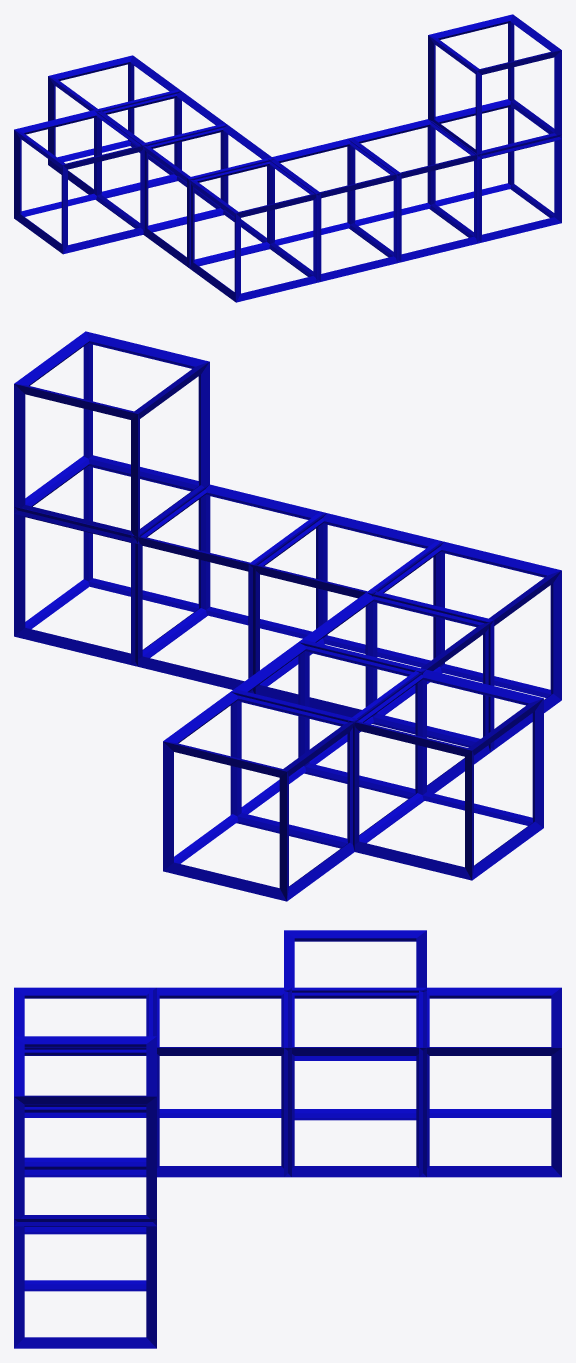
3 views of the same model, one above another, from view 1: azimuth 30°, elevation 25°; view 2: azimuth 150°, elevation 25°; view 3: azimuth 270°, elevation 25° (orthographic). The views are drawn at different scales.
Visible parts, largest first — view 1: Cube.008, Cube.002, Cube.004, Cube.005, Cube.006, Cube.001, Cube.007, Cube.003_Cube.009, Cube; view 2: Cube.008, Cube.003_Cube.009, Cube.004, Cube.006, Cube.002, Cube.005, Cube.007, Cube.001, Cube; view 3: Cube.008, Cube.003_Cube.009, Cube, Cube.001, Cube.007, Cube.004, Cube.002, Cube.005, Cube.006.
Part boxes in pixels (left/top/right/bottom): Cube.008: left=428, top=14, right=561, bottom=159; Cube.002: left=187, top=157, right=320, bottom=302; Cube.004: left=14, top=109, right=147, bottom=254; Cube.005: left=268, top=137, right=401, bottom=282; Cube.006: left=348, top=119, right=481, bottom=263; Cube.001: left=140, top=123, right=274, bottom=268; Cube.007: left=428, top=99, right=561, bottom=243; Cube.003_Cube.009: left=48, top=55, right=181, bottom=198; Cube: left=95, top=89, right=228, bottom=233; Cube.008: left=14, top=331, right=209, bottom=543; Cube.003_Cube.009: left=163, top=689, right=358, bottom=901; Cube.004: left=348, top=668, right=543, bottom=880; Cube.006: left=131, top=484, right=326, bottom=693; Cube.002: left=366, top=540, right=561, bottom=752; Cube.005: left=248, top=511, right=443, bottom=723; Cube.007: left=14, top=456, right=209, bottom=666; Cube.001: left=298, top=590, right=494, bottom=802; Cube: left=230, top=639, right=425, bottom=850; Cube.008: left=14, top=1036, right=156, bottom=1226; Cube.003_Cube.009: left=419, top=987, right=561, bottom=1177; Cube: left=284, top=987, right=426, bottom=1177; Cube.001: left=149, top=987, right=291, bottom=1177; Cube.007: left=14, top=1166, right=156, bottom=1348; Cube.004: left=284, top=930, right=426, bottom=1120; Cube.002: left=14, top=987, right=156, bottom=1177; Cube.005: left=24, top=1049, right=146, bottom=1234; Cube.006: left=24, top=1107, right=146, bottom=1291.
Bounding box in the file's own units: 10.12 × 4.12 × 8.12.
